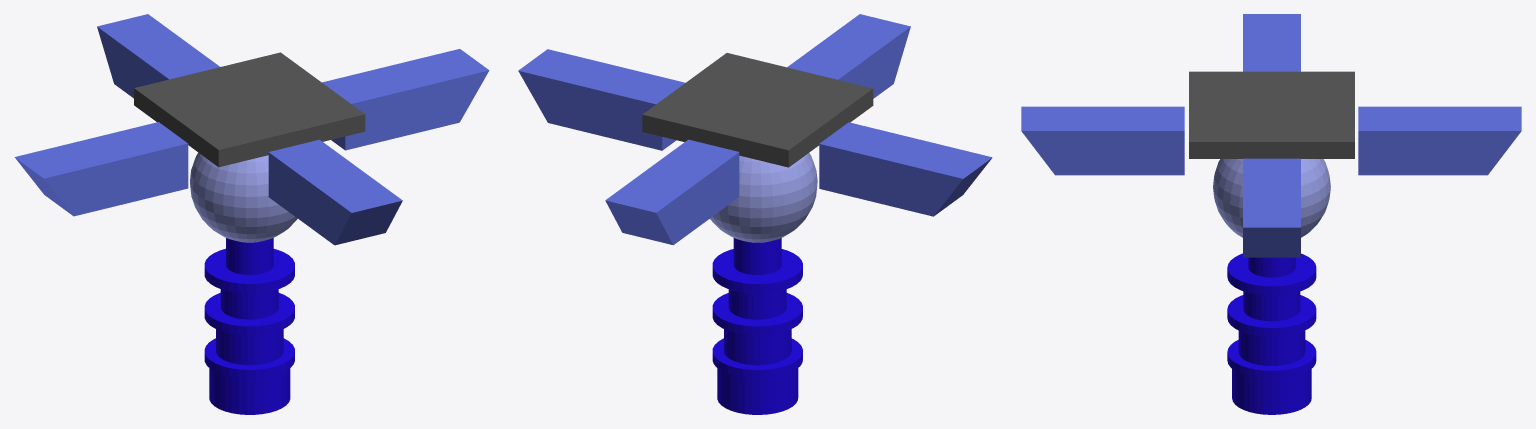
The model's file is lightning.fbx.
The picture shows the model from 3 angles, left to right: view 1: azimuth 30°, elevation 25°; view 2: azimuth 150°, elevation 25°; view 3: azimuth 270°, elevation 25°; orthographic projection.
Parts seen in each view (by area): view 1: BaseFloor, Base, Pillar.001, Pillar, Pillar.003, Orb, Pillar.002; view 2: BaseFloor, Base, Pillar.001, Pillar, Pillar.002, Orb, Pillar.003; view 3: BaseFloor, Base, Pillar.002, Pillar.003, Pillar, Orb, Pillar.001.
Boxes of the visible parts, x1=… form: BaseFloor: x1=134, y1=52, x2=365, y2=167; Base: x1=204, y1=238, x2=294, y2=414; Pillar.001: x1=14, y1=122, x2=188, y2=216; Pillar: x1=322, y1=49, x2=489, y2=150; Pillar.003: x1=268, y1=139, x2=402, y2=245; Orb: x1=190, y1=152, x2=297, y2=242; Pillar.002: x1=97, y1=14, x2=219, y2=98; BaseFloor: x1=642, y1=53, x2=873, y2=167; Base: x1=712, y1=238, x2=802, y2=414; Pillar.001: x1=819, y1=122, x2=992, y2=216; Pillar: x1=518, y1=49, x2=685, y2=150; Pillar.002: x1=605, y1=139, x2=739, y2=245; Orb: x1=710, y1=153, x2=817, y2=242; Pillar.003: x1=787, y1=14, x2=910, y2=98; BaseFloor: x1=1189, y1=71, x2=1354, y2=158; Base: x1=1227, y1=253, x2=1316, y2=414; Pillar.002: x1=1358, y1=106, x2=1521, y2=175; Pillar.003: x1=1021, y1=106, x2=1184, y2=175; Pillar: x1=1243, y1=158, x2=1300, y2=257; Orb: x1=1213, y1=159, x2=1330, y2=237; Pillar.001: x1=1243, y1=14, x2=1300, y2=71.
Bounding box in the file's own units: 30.39 × 19.34 × 30.12.
